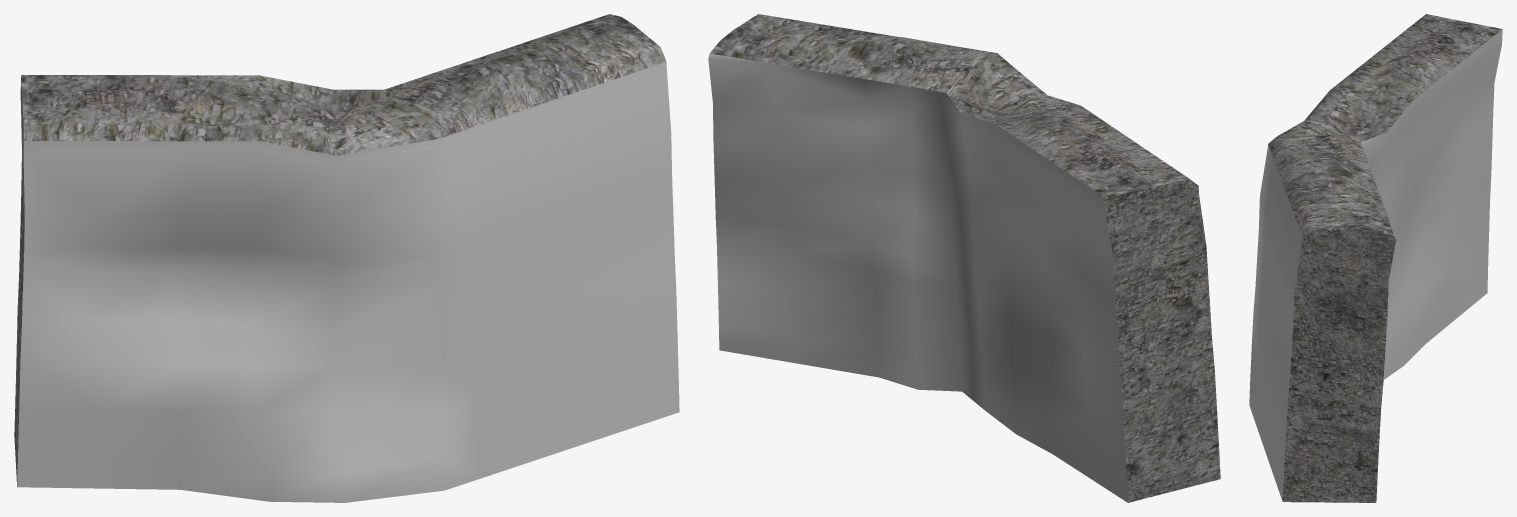
Rendered from castleruins piece three.fbx.
3 renders of one model, left to right at view 1: azimuth 30°, elevation 25°; view 2: azimuth 150°, elevation 25°; view 3: azimuth 270°, elevation 25°, orthographic. The views are drawn at different scales.
Visible parts, largest first — view 1: castleruins_three; view 2: castleruins_three; view 3: castleruins_three.
Part boxes in pixels (x1,y1,x2,y2): castleruins_three: [14, 14, 679, 502]; castleruins_three: [708, 14, 1220, 502]; castleruins_three: [1249, 14, 1502, 502].
Bounding box in the file's own units: 279 × 167 × 135.
